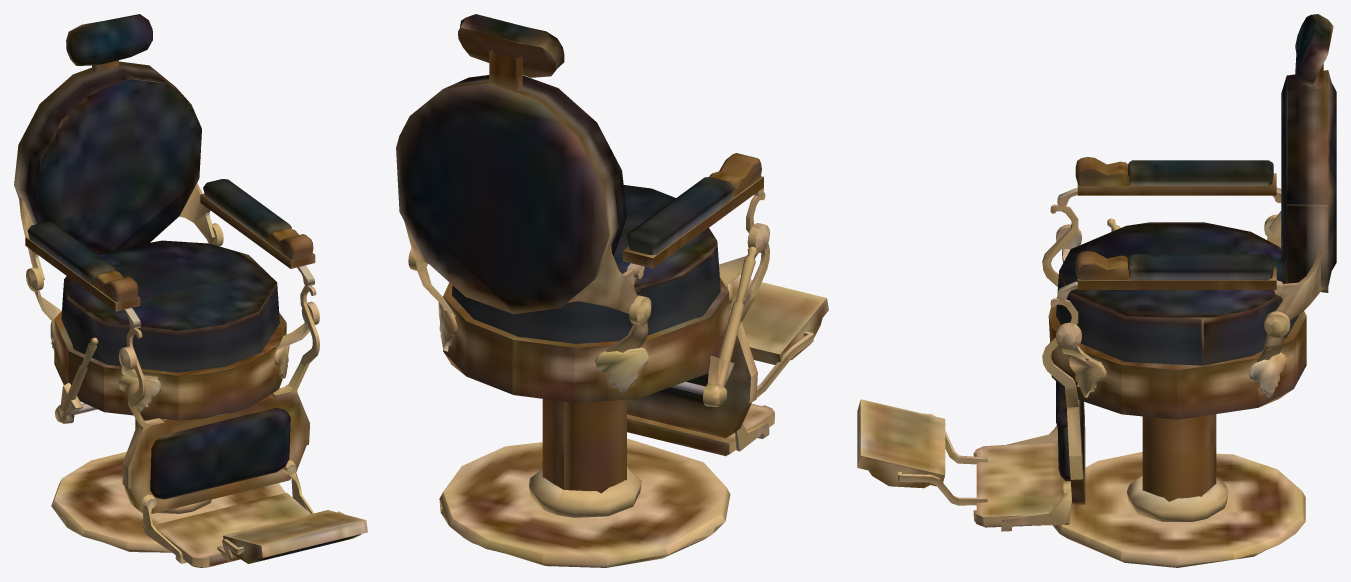
The picture shows the model from 3 angles, left to right: view 1: azimuth 30°, elevation 25°; view 2: azimuth 150°, elevation 25°; view 3: azimuth 270°, elevation 25°; orthographic projection. The views are drawn at different scales.
Parts seen in each view (by area): view 1: BarberShopChair_01; view 2: BarberShopChair_01; view 3: BarberShopChair_01.
Part boxes in pixels (x1,y1,x2,y2): BarberShopChair_01: (14, 14, 367, 567); BarberShopChair_01: (396, 14, 828, 567); BarberShopChair_01: (857, 14, 1336, 567).
Bounding box in the file's own units: 0.7565 × 1.49 × 1.33.
Materials: 1 (1 with a texture image).
